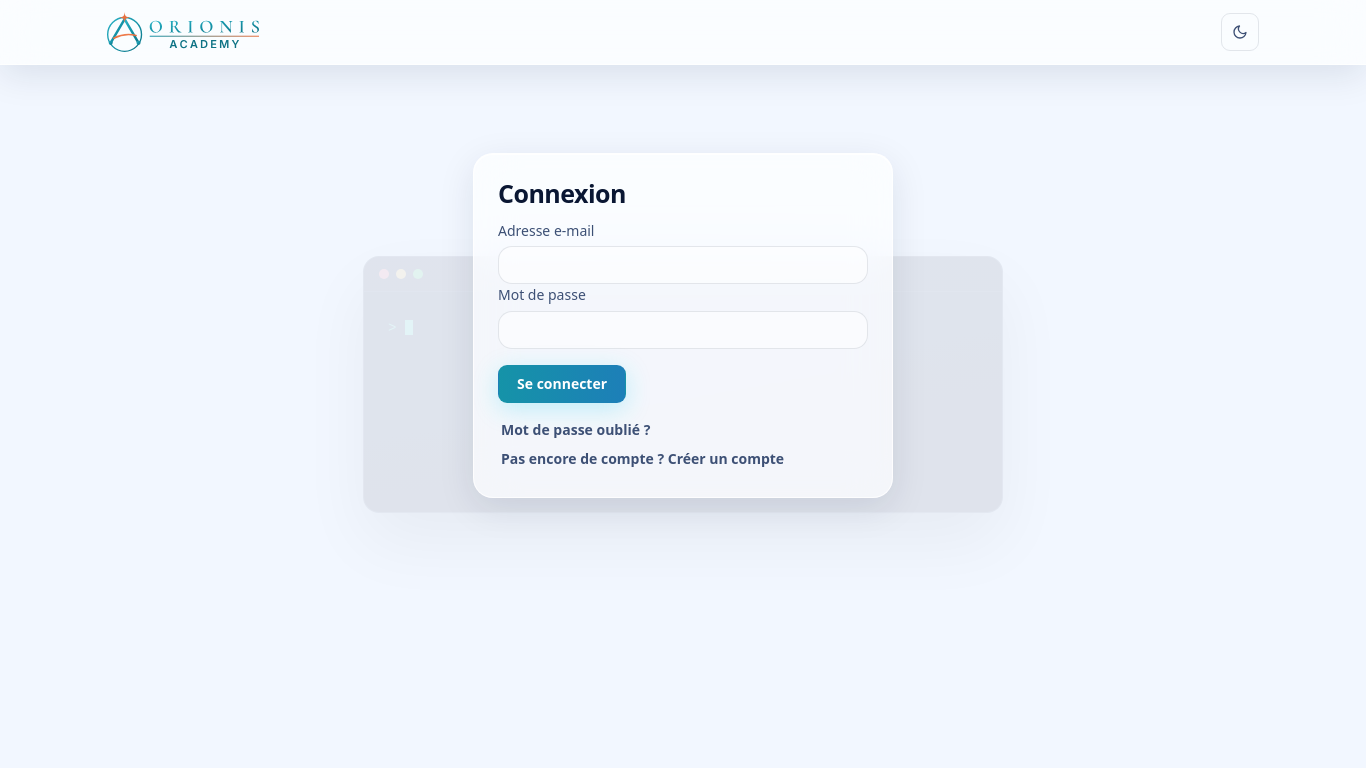
Scenario: AuthScreen › forgot-password shows the generic confirmation regardless of the email
Click the button "Mot de passe oublié ?": (576, 429) x1=498 y1=415 x2=653 y2=444
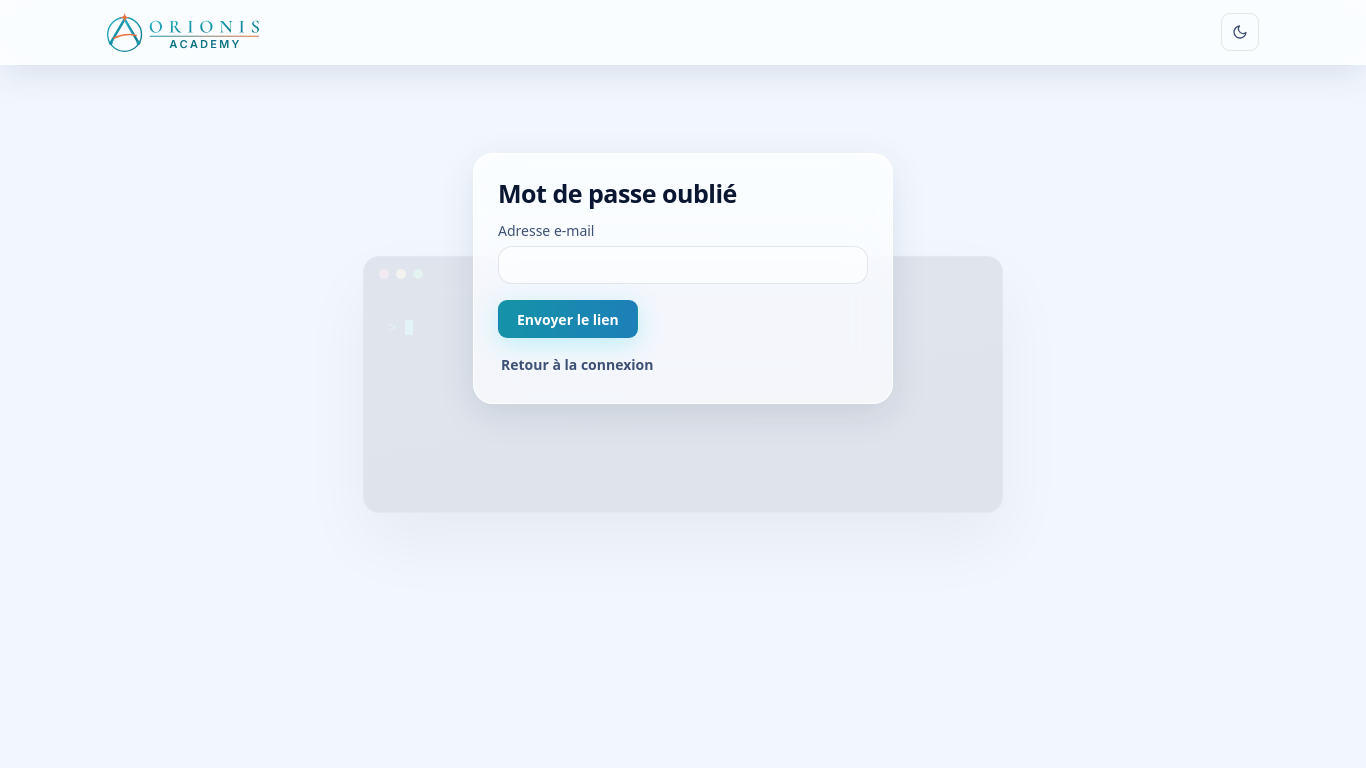
In the field labelled "Adresse e-mail": (683, 265) x1=498 y1=246 x2=868 y2=284, type "n-importe-qui@b.com"
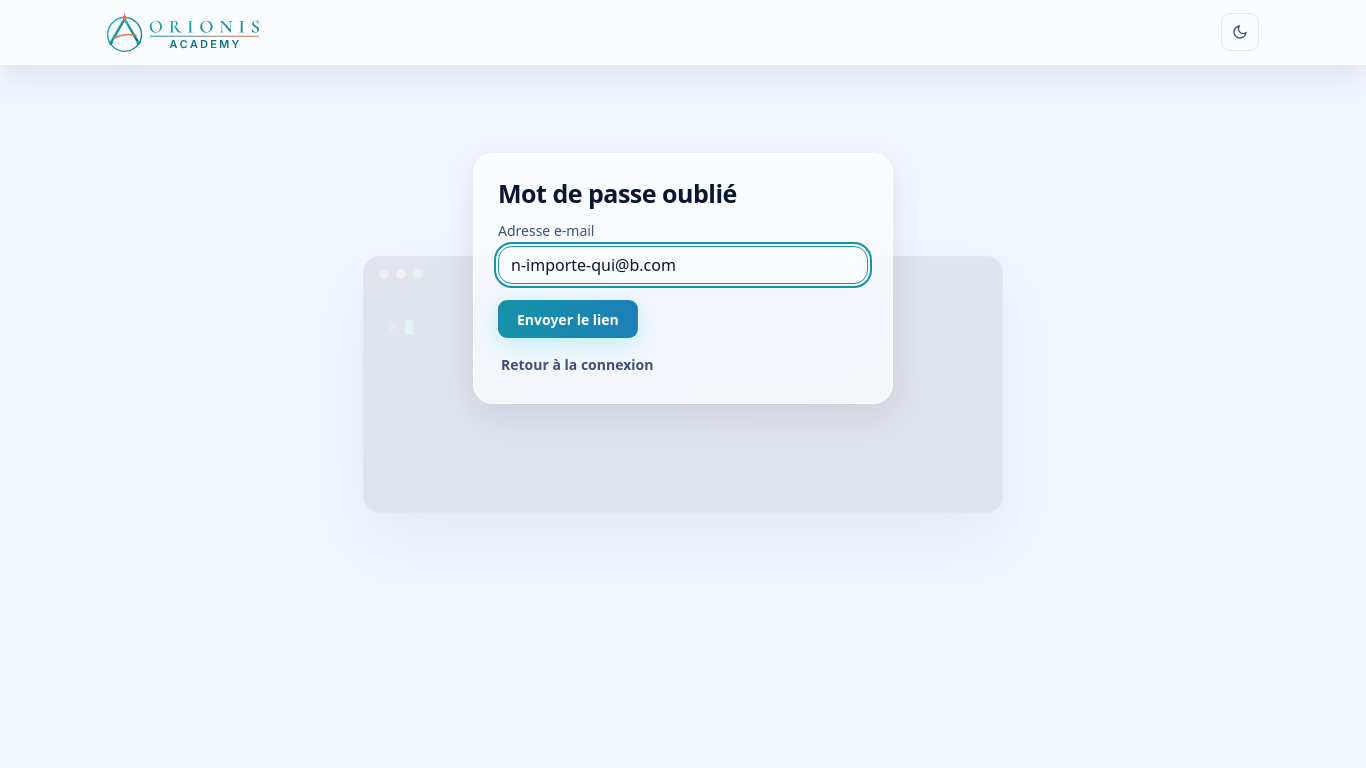
Click the button "Envoyer le lien": (568, 319) x1=498 y1=300 x2=638 y2=338
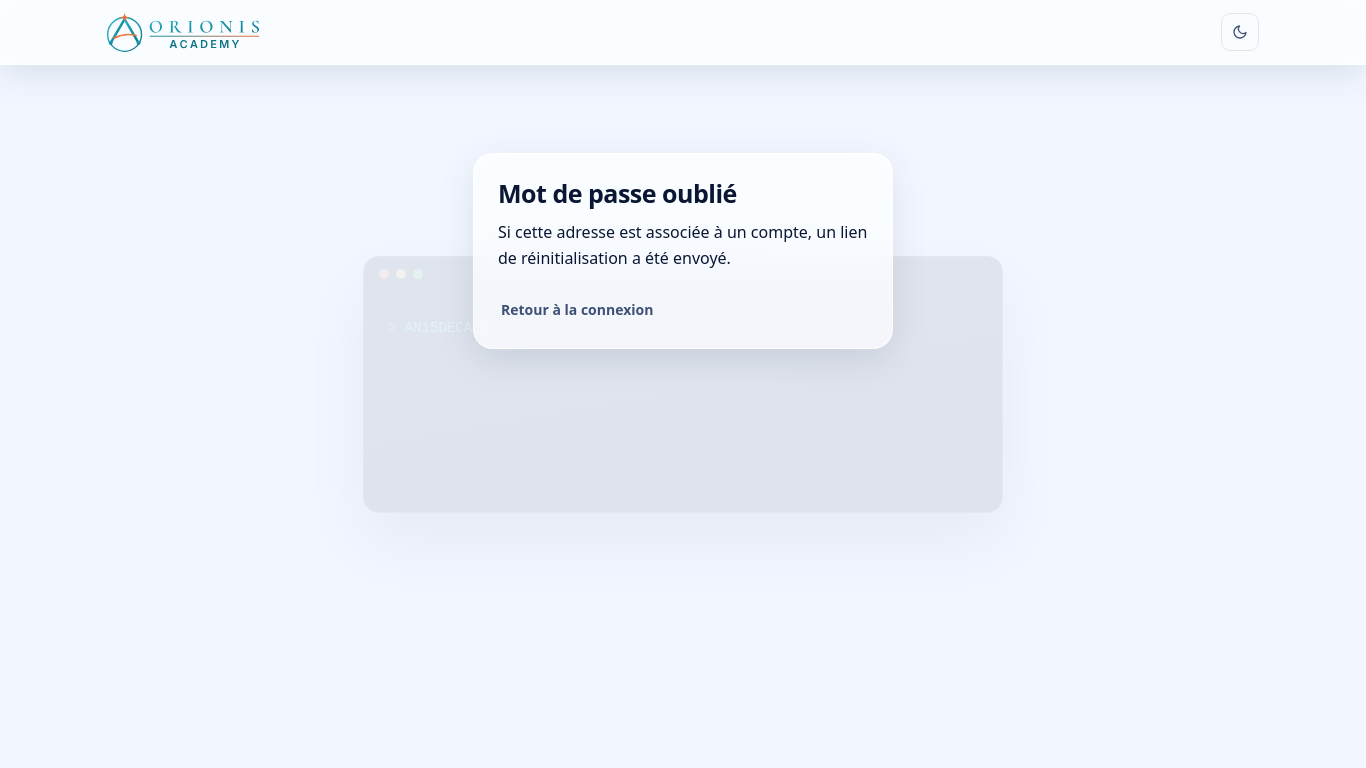
Check: the text "Si cette adresse est associée à un compte, un lien de réinitialisation a été envoyé." is shown, box x1=498 y1=221 x2=867 y2=269
